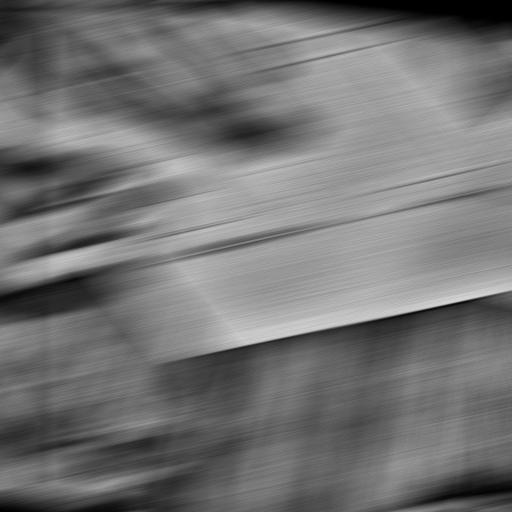bottom_right: (181, 353, 215, 355)
door: (0, 0, 512, 291)
